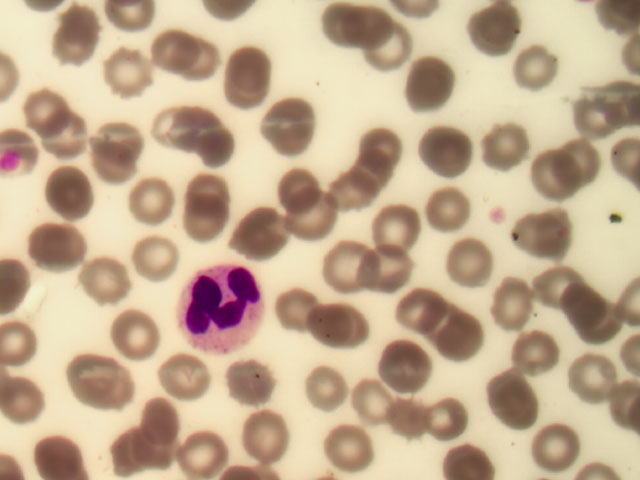Platelets: (487, 198, 511, 230), (1, 152, 18, 172)
RBC: (423, 182, 476, 238), (377, 191, 430, 247), (369, 236, 422, 292), (325, 241, 378, 297), (315, 298, 368, 354), (268, 281, 321, 337), (303, 358, 356, 414), (353, 372, 406, 428), (376, 332, 429, 388), (392, 282, 445, 338), (423, 308, 476, 364), (482, 274, 535, 330), (448, 232, 501, 288), (515, 204, 568, 260), (525, 250, 578, 306), (551, 272, 604, 328), (575, 293, 628, 349), (566, 356, 619, 412), (525, 418, 578, 474), (488, 370, 541, 426), (500, 320, 553, 376), (414, 391, 467, 447), (390, 392, 443, 448), (331, 412, 384, 468), (239, 403, 292, 459), (216, 351, 269, 407), (162, 343, 215, 399), (105, 304, 158, 360), (69, 348, 122, 404), (105, 420, 158, 476), (134, 384, 187, 440), (168, 422, 221, 478), (1, 369, 53, 425), (435, 440, 497, 479), (54, 17, 103, 62), (100, 53, 149, 98), (146, 27, 195, 72), (177, 35, 226, 80), (219, 38, 268, 83), (217, 65, 266, 110), (261, 109, 310, 154), (190, 129, 239, 174), (174, 110, 223, 155), (147, 108, 196, 153), (96, 107, 145, 152), (89, 135, 138, 180), (48, 120, 97, 165), (27, 82, 76, 127), (44, 162, 93, 207), (33, 224, 82, 269), (78, 255, 127, 300), (125, 237, 174, 282), (130, 177, 179, 222), (173, 195, 222, 240), (183, 170, 232, 215), (236, 210, 285, 255), (277, 196, 326, 241), (274, 170, 323, 215), (321, 176, 370, 221), (348, 159, 397, 204), (359, 125, 408, 170), (424, 126, 473, 171), (409, 62, 458, 107), (381, 32, 430, 77), (341, 9, 390, 54), (475, 6, 524, 51), (512, 44, 561, 89), (485, 123, 534, 168), (528, 157, 577, 202), (563, 141, 612, 186), (570, 93, 619, 138), (315, 1, 364, 45)
WBC: (177, 264, 264, 357)
